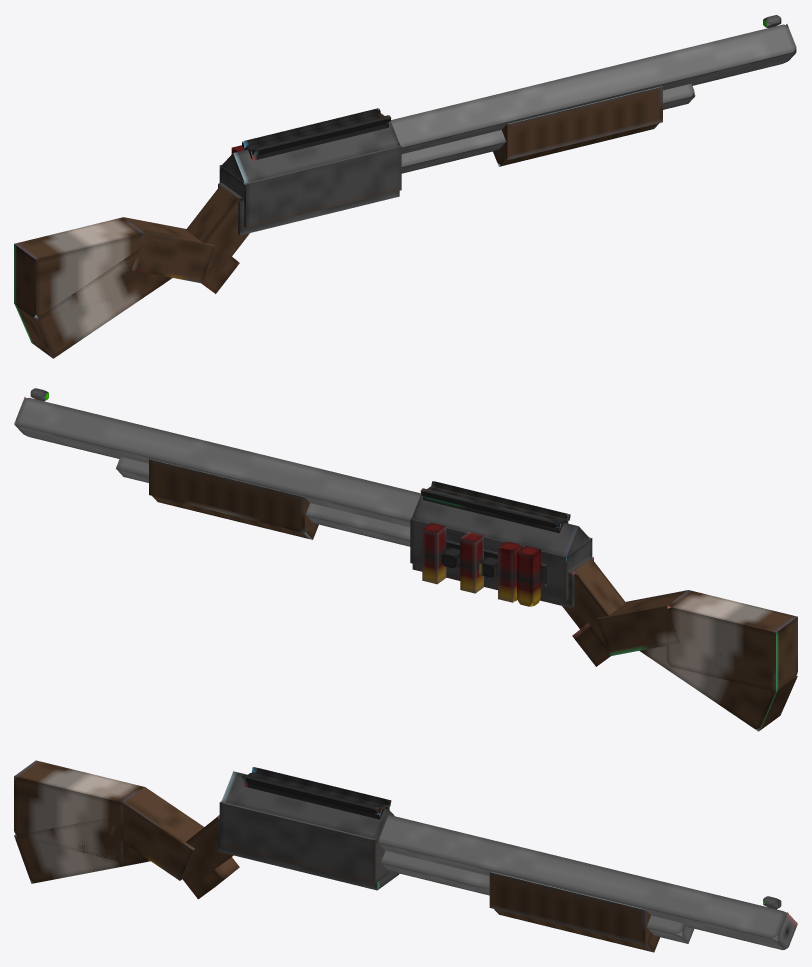
Rendered from PumpShotgun.fbx.
3 views of the same model, one above another, from view 1: azimuth 30°, elevation 25°; view 2: azimuth 150°, elevation 25°; view 3: azimuth 330°, elevation 25° (orthographic).
Visible parts, largest first — view 1: cube_8, cube_4, cube_6, cube_3, cube_10, cube_7, cube_1, cube, cube_9, cube_14, cube_5, cube_15 (+3 smaller); view 2: cube_8, cube_4, cube_10, cube_7, cube_3, cube_1, cube_6, cube_9, cube, cube_20, cube_17, cube_14 (+7 smaller); view 3: cube_8, cube_4, cube_6, cube_10, cube_3, cube_1, cube_7, cube_9, cube, cube_14, cube_5, cube_15 (+3 smaller).
Boxes of the visible parts, bbox=[...] form: cube_8: bbox=[391, 24, 796, 153]; cube_4: bbox=[14, 217, 144, 319]; cube_6: bbox=[219, 144, 401, 227]; cube_3: bbox=[14, 241, 172, 358]; cube_10: bbox=[495, 86, 662, 159]; cube_7: bbox=[221, 115, 399, 188]; cube_1: bbox=[123, 217, 215, 283]; cube: bbox=[186, 185, 249, 286]; cube_9: bbox=[401, 83, 695, 173]; cube_14: bbox=[243, 113, 388, 160]; cube_5: bbox=[218, 183, 399, 235]; cube_15: bbox=[252, 115, 391, 155]; cube_8: bbox=[14, 397, 421, 527]; cube_4: bbox=[666, 590, 797, 692]; cube_10: bbox=[149, 459, 316, 532]; cube_7: bbox=[411, 494, 590, 561]; cube_3: bbox=[639, 624, 797, 731]; cube_1: bbox=[597, 590, 688, 656]; cube_6: bbox=[410, 517, 592, 600]; cube_9: bbox=[116, 456, 410, 546]; cube: bbox=[562, 558, 625, 652]; cube_20: bbox=[517, 546, 540, 606]; cube_17: bbox=[422, 522, 446, 584]; cube_14: bbox=[423, 486, 568, 532]; cube_8: bbox=[377, 815, 797, 949]; cube_4: bbox=[14, 760, 144, 862]; cube_6: bbox=[219, 801, 389, 883]; cube_10: bbox=[489, 872, 650, 945]; cube_3: bbox=[14, 817, 150, 883]; cube_1: bbox=[110, 787, 203, 880]; cube_7: bbox=[221, 771, 394, 842]; cube_9: bbox=[381, 850, 694, 943]; cube: bbox=[182, 816, 233, 888]; cube_14: bbox=[243, 772, 388, 819]; cube_5: bbox=[218, 815, 399, 890]; cube_15: bbox=[241, 775, 380, 814].
Bounding box in the file's own units: 125 × 24.65 × 10.62.
1 material, 1 textured.
